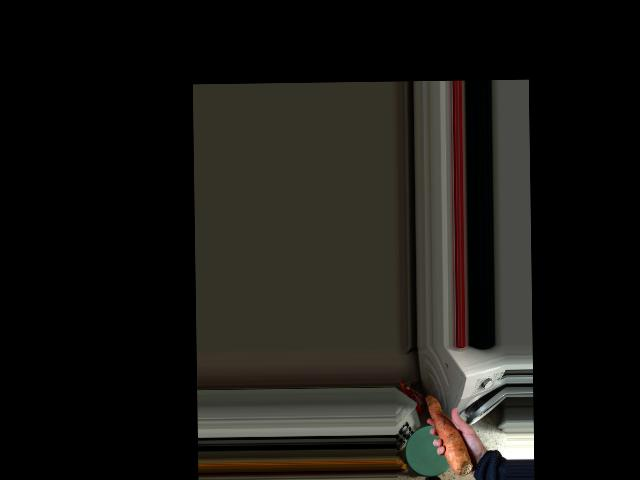sweet_potato: (421, 388, 475, 477)
